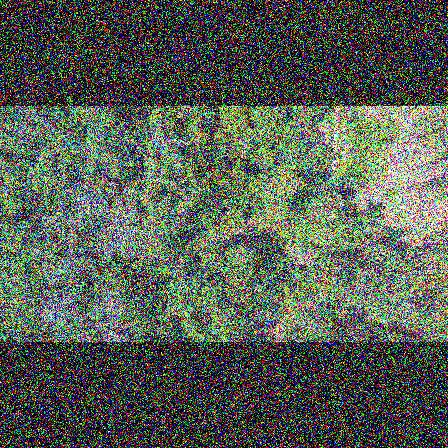Dead: (104, 192, 151, 262), (138, 121, 192, 159), (38, 285, 93, 322), (34, 200, 83, 239), (12, 109, 57, 144), (77, 176, 114, 218), (39, 251, 84, 279), (233, 130, 265, 161)
